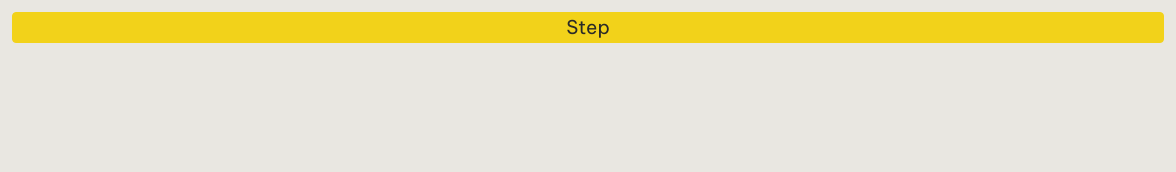
it: Tooltip › opens at once on focus
Focus the button "Step" at (588, 28), box [12,12,1164,43]
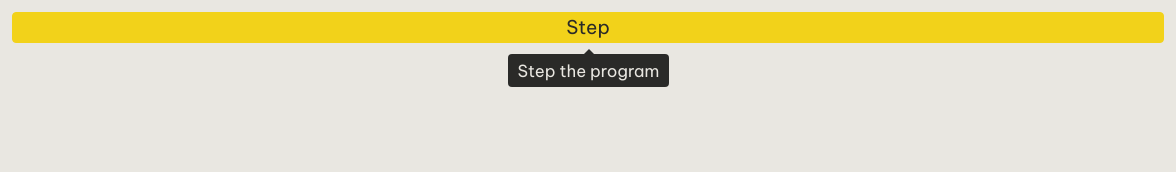
Expected: the tooltip "Step the program" is shown, [508,54,669,87]
